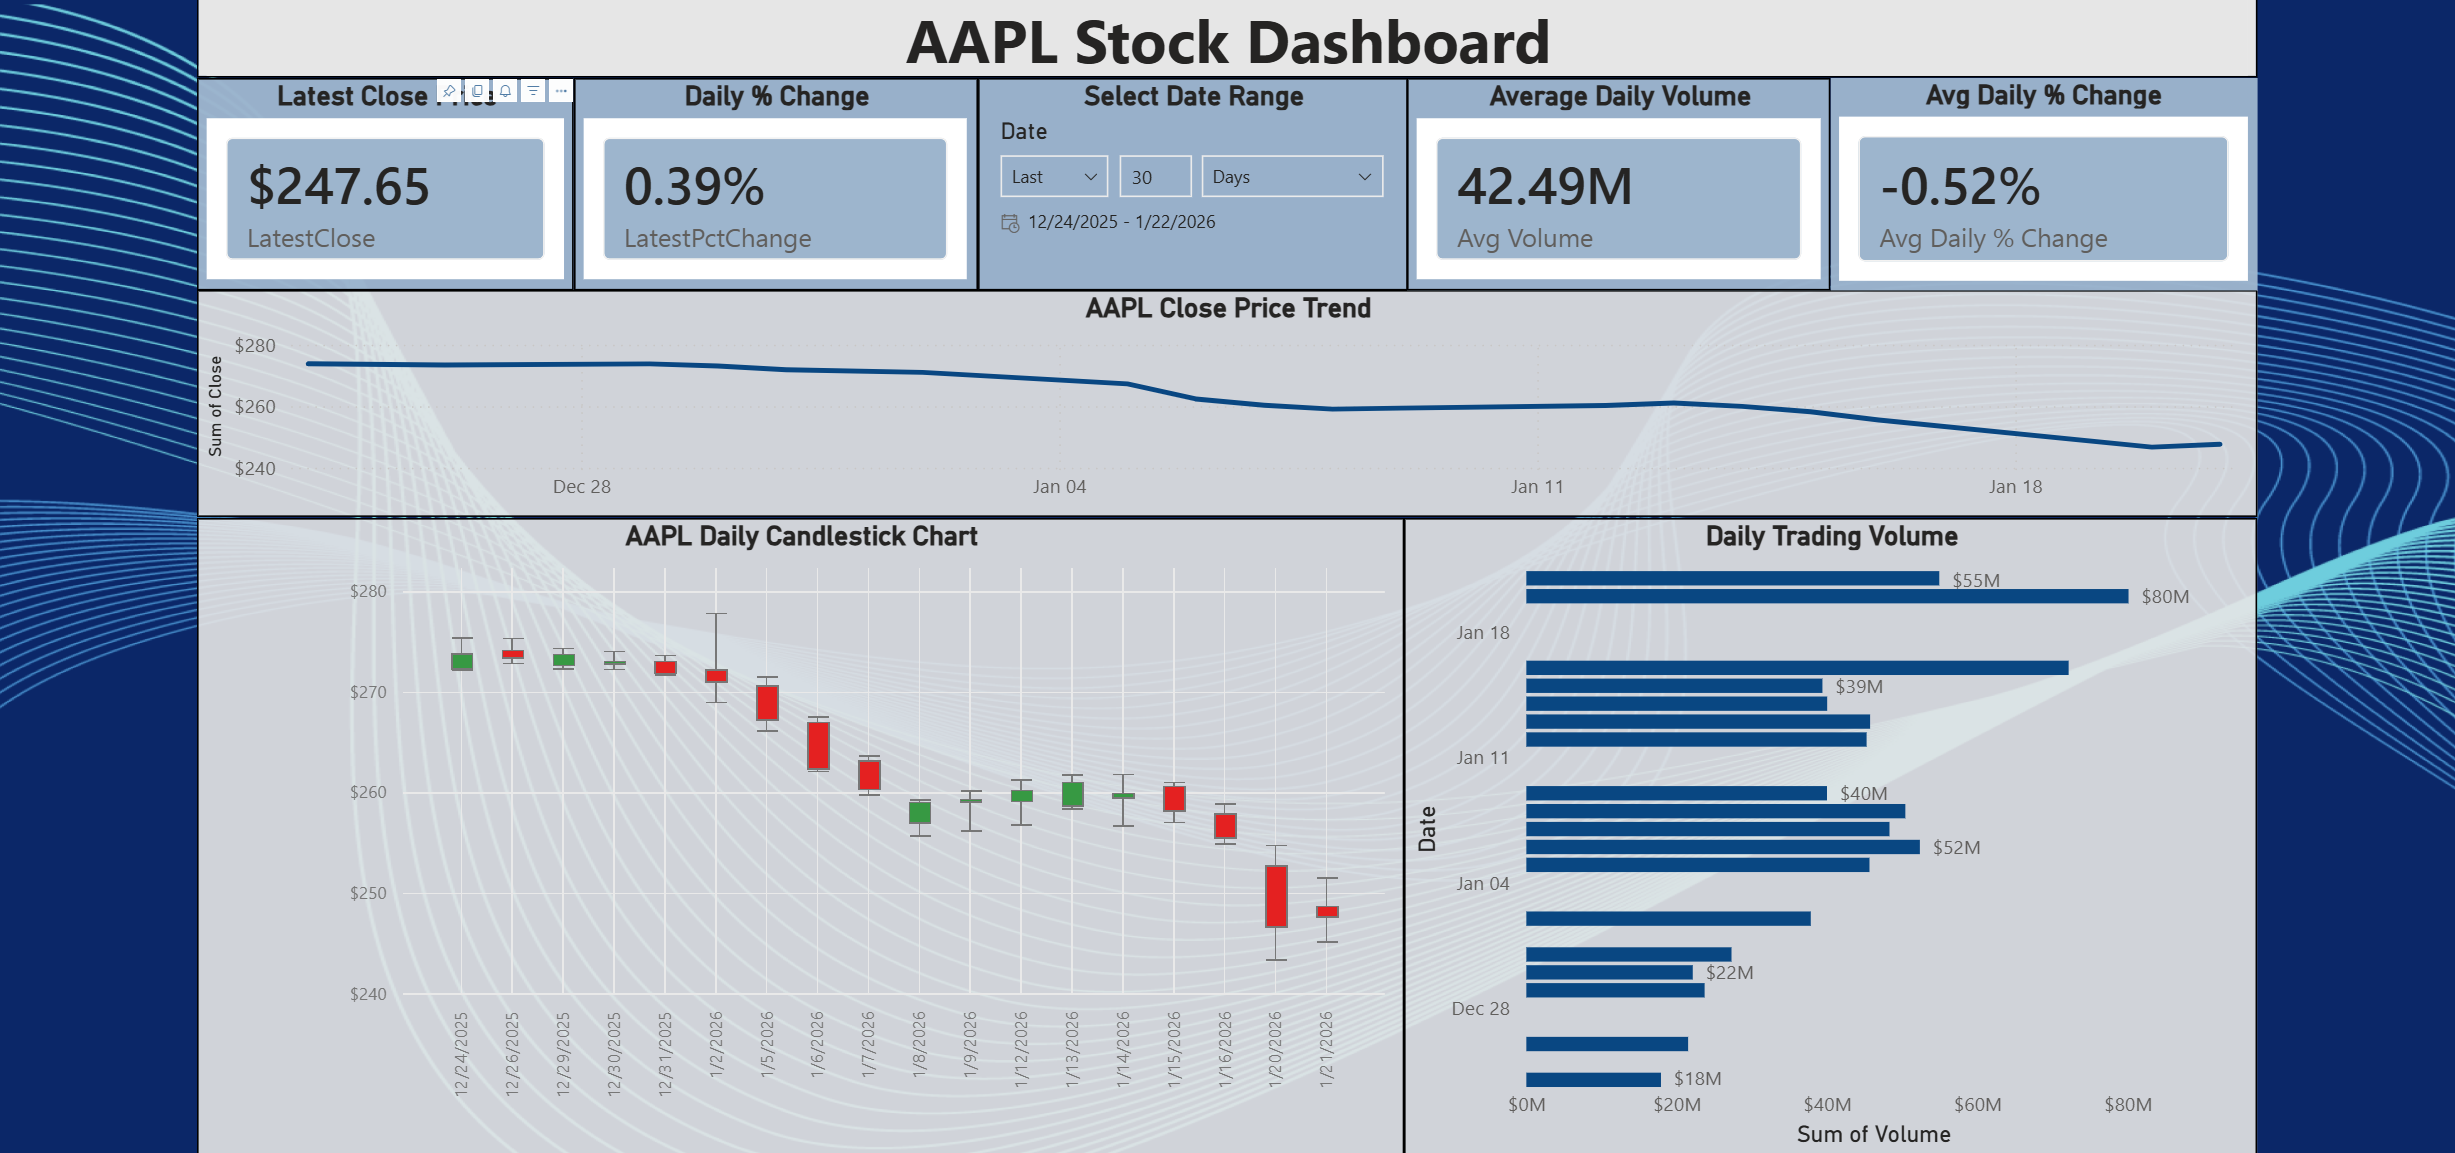

Layout of this report page (visuals, bound fields, positions):
{"tool":"powerbi","page":{"name":"AAPL Daily Stock Dashboard","canvas":[1280,720],"ordinal":0},"visuals":[{"type":"cardVisual","title":"Latest Close Price","fields":{"Data":["aapl_daily_massive.LatestClose"]},"box":[0,50.4,234.4,131.7],"z":0},{"type":"PBI_CV_886A053E_9DFD_4EA0_A47D_CCAEB89AF969","title":"AAPL Daily Candlestick Chart","fields":{"Category":["aapl_daily_massive.Date"],"open":["Sum(aapl_daily_massive.Open)"],"close":["Sum(aapl_daily_massive.Close)"],"high":["Sum(aapl_daily_massive.High)"],"low":["Sum(aapl_daily_massive.Low)"],"trends":["Sum(aapl_daily_massive.Volume)"]},"box":[0,323.5,749.7,396.5],"z":1000},{"type":"slicer","title":"Select Date Range","fields":{"Values":["aapl_daily_massive.Date"]},"box":[485,50.4,266.7,131.7],"z":2000},{"type":"cardVisual","title":"Daily % Change","fields":{"Data":["aapl_daily_massive.LatestPctChange"]},"box":[234.4,50.4,250.5,131.7],"z":3000},{"type":"textbox","title":"AAPL  Stock Dashboard","box":[0,0,1279.9,50.4],"z":4000},{"type":"clusteredBarChart","title":"Daily Trading Volume","fields":{"Category":["aapl_daily_massive.Date"],"Y":["Sum(aapl_daily_massive.Volume)"]},"box":[749.7,323.5,530.2,396.5],"z":5000},{"type":"lineChart","title":"AAPL Close Price Trend","fields":{"Y":["Sum(aapl_daily_massive.Close)"],"Category":["aapl_daily_massive.Date"]},"box":[0,182.1,1279.9,141.4],"z":6000},{"type":"cardVisual","title":"Average Daily Volume","fields":{"Data":["aapl_daily_massive.Avg Volume"]},"box":[751.6,50.4,263.5,131.7],"z":7000},{"type":"cardVisual","title":"Avg Daily % Change","fields":{"Data":["aapl_daily_massive.Avg Daily % Change"]},"box":[1015.1,50.4,264.8,131.7],"z":8000}]}

Visuals, with their boxes in screenshot pixels (x1, y1, x2, y2):
"Latest Close Price" cardVisual: [166,63,549,278]
"AAPL Daily Candlestick Chart" PBI_CV_886A053E_9DFD_4EA0_A47D_CCAEB89AF969: [166,509,1391,1152]
"Select Date Range" slicer: [959,63,1395,278]
"Daily % Change" cardVisual: [549,63,959,278]
"AAPL  Stock Dashboard" textbox: [166,0,2258,63]
"Daily Trading Volume" clusteredBarChart: [1391,509,2258,1152]
"AAPL Close Price Trend" lineChart: [166,278,2258,509]
"Average Daily Volume" cardVisual: [1394,63,1825,278]
"Avg Daily % Change" cardVisual: [1825,63,2258,278]
